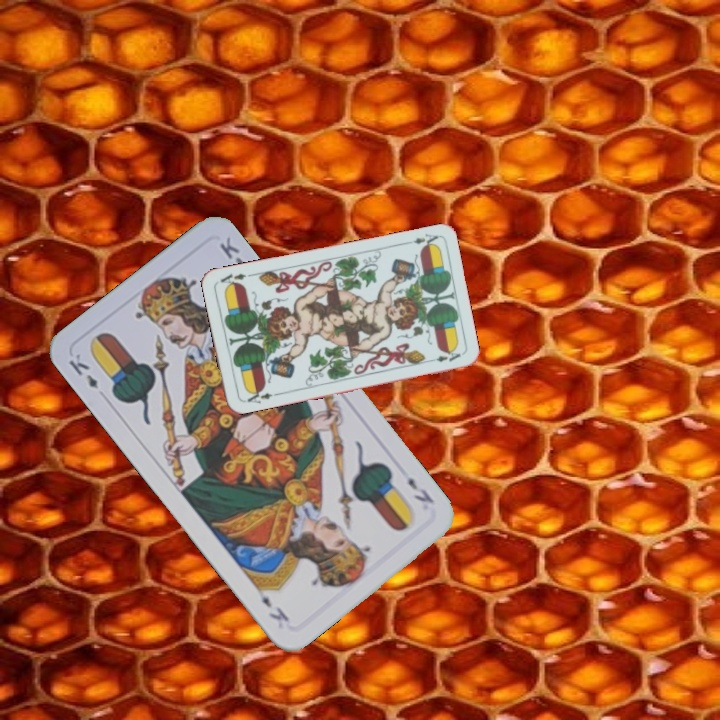EA: (400, 229, 441, 250), (240, 385, 280, 406)
EK: (65, 349, 101, 391), (403, 473, 437, 507)
